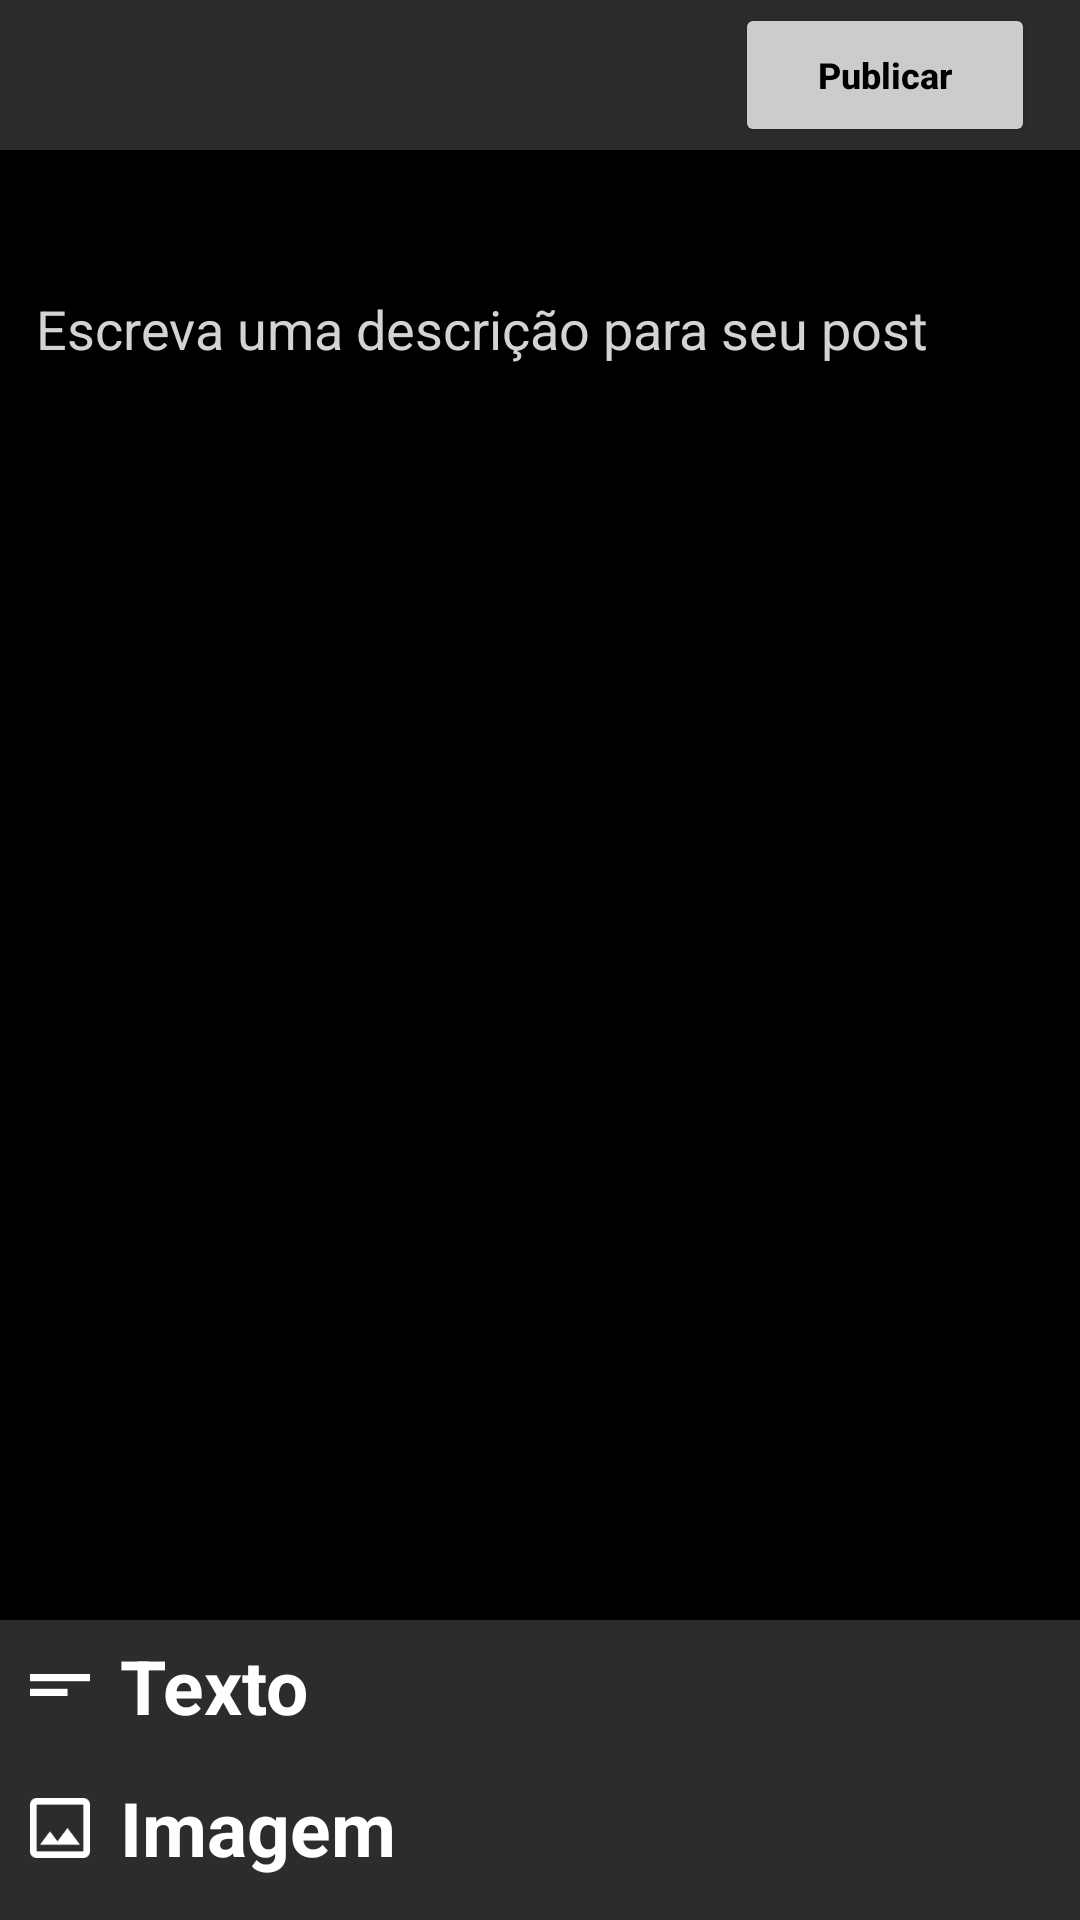

Screen size 1080*1920. Icon name, then its center in pixels as point (x, y):
create post text: point (60, 1685)
